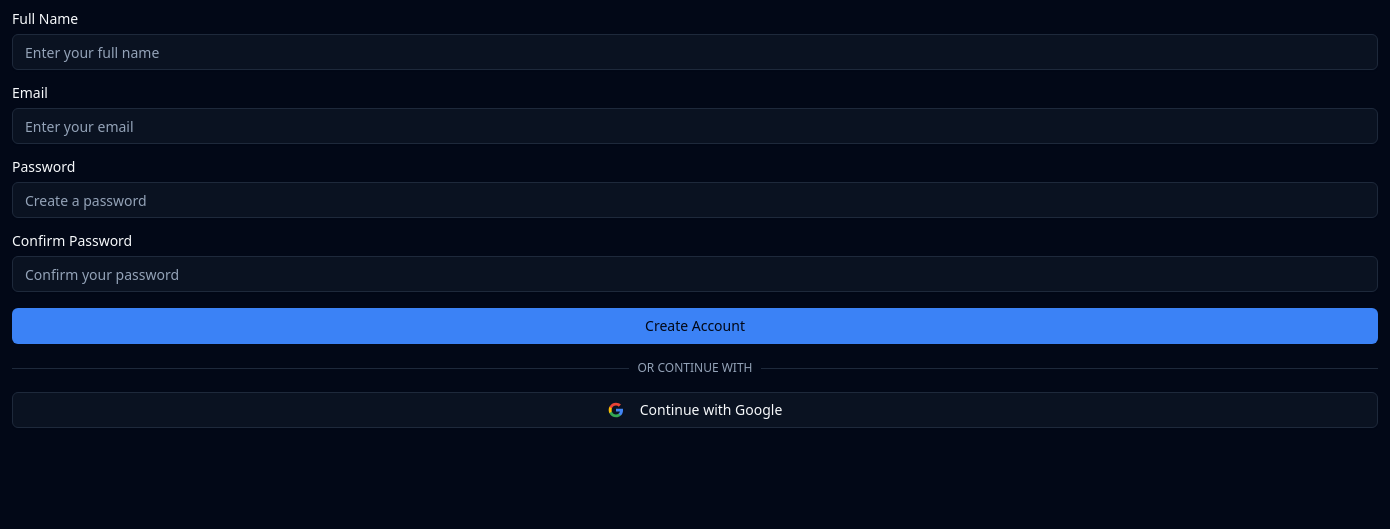
Test: SignUpForm › validates password confirmation
In the password field labelled "Password": (695, 200) x1=12 y1=182 x2=1378 y2=218, type "password123"
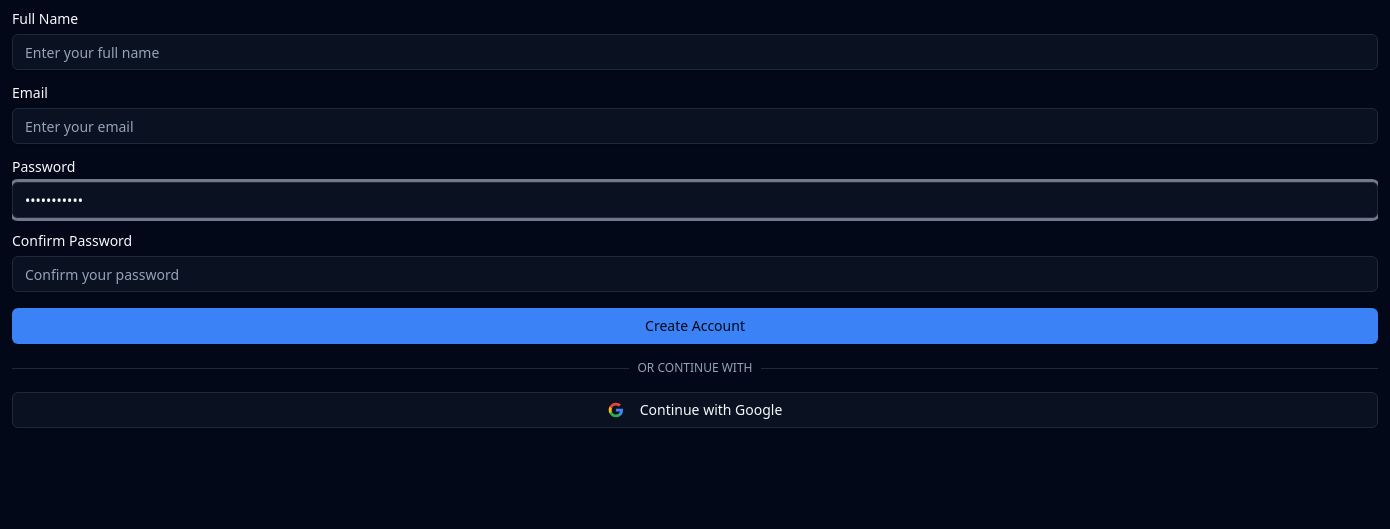
In the password field labelled "Confirm Password": (695, 274) x1=12 y1=256 x2=1378 y2=292, type "differentpassword"
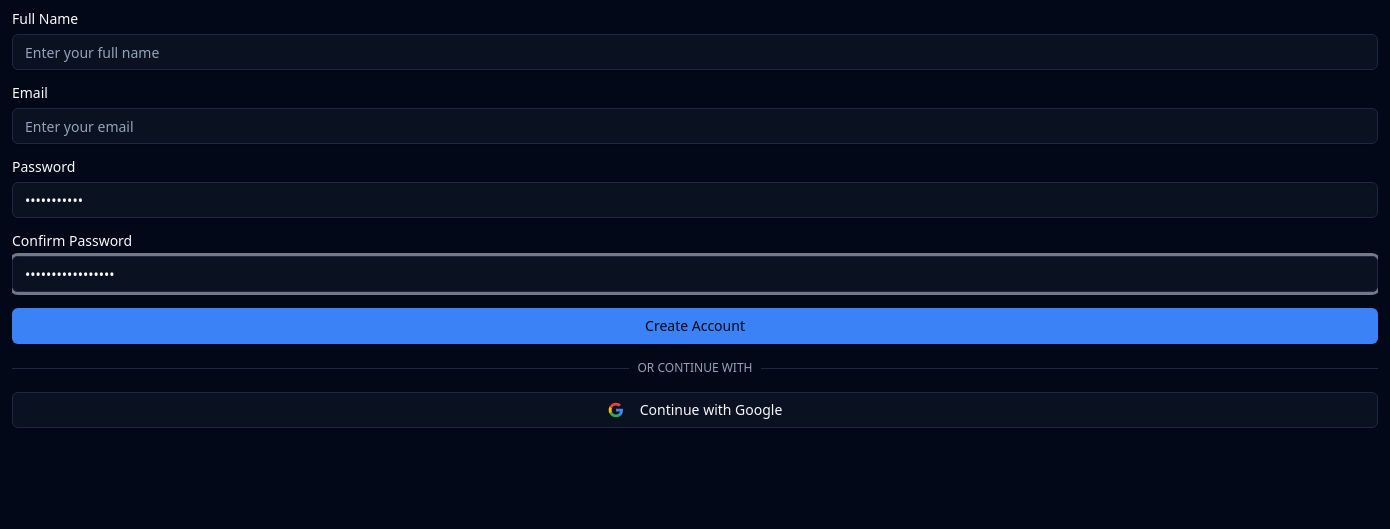
Click the button "Create Account": (695, 326) x1=12 y1=308 x2=1378 y2=344
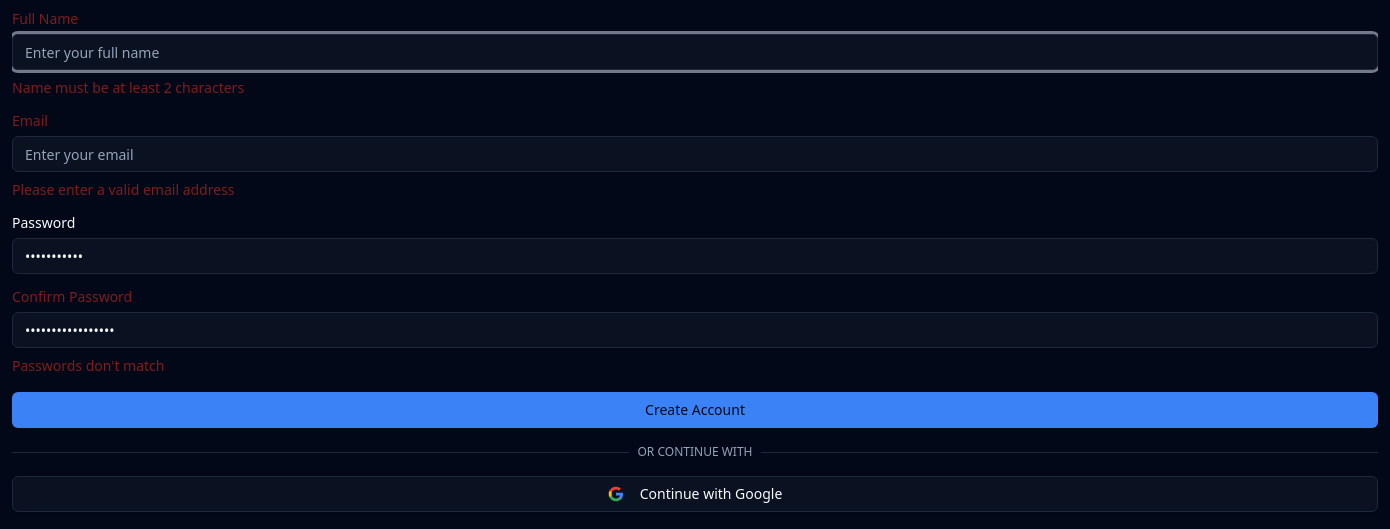
expect the text "Passwords don't match" is shown: met, box x1=12 y1=356 x2=164 y2=375
